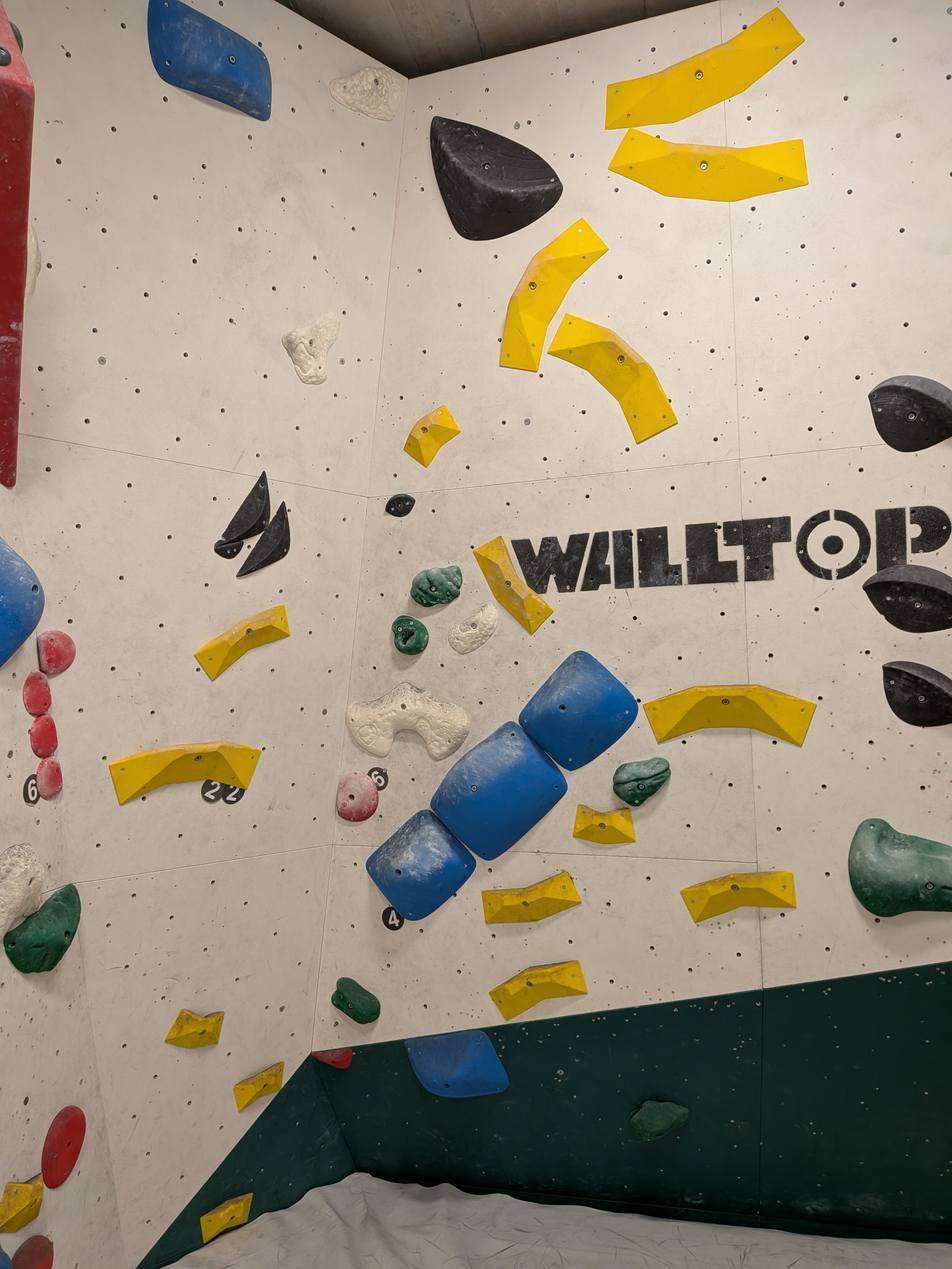hold: (605, 8, 803, 129), (431, 721, 567, 860), (548, 314, 678, 443), (500, 219, 608, 371), (430, 116, 562, 240), (148, 0, 272, 121), (609, 128, 808, 201), (519, 651, 638, 770), (366, 810, 475, 920), (645, 685, 816, 746), (848, 819, 952, 917), (347, 682, 469, 760), (110, 742, 261, 804), (473, 536, 553, 634), (405, 1030, 509, 1098), (194, 605, 289, 679), (3, 884, 81, 973), (869, 376, 952, 451), (863, 565, 952, 633), (682, 871, 796, 923), (490, 960, 587, 1019), (0, 539, 44, 665), (482, 871, 581, 924), (883, 661, 952, 727), (214, 470, 270, 547), (282, 312, 339, 384), (237, 502, 290, 577), (329, 67, 400, 121), (42, 1106, 86, 1188), (405, 406, 460, 466), (613, 757, 671, 806), (200, 1192, 253, 1243), (448, 604, 498, 654), (233, 1062, 284, 1111), (0, 1175, 43, 1233), (573, 805, 635, 845), (631, 1101, 689, 1142), (331, 977, 380, 1025), (165, 1009, 224, 1048), (410, 566, 462, 607), (337, 771, 378, 821), (37, 630, 75, 677), (23, 221, 41, 314), (392, 615, 428, 655), (11, 1236, 54, 1269), (23, 671, 51, 716), (30, 713, 58, 758), (36, 757, 63, 799), (311, 1048, 353, 1069), (385, 494, 415, 517), (214, 541, 244, 559), (11, 22, 23, 52), (0, 45, 11, 66)
volume: (0, 0, 37, 489)
